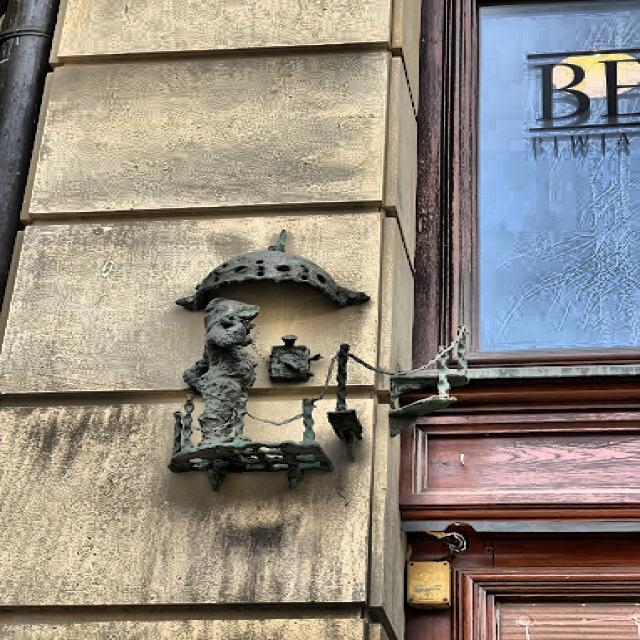Dryndek: (169, 231, 369, 489)
